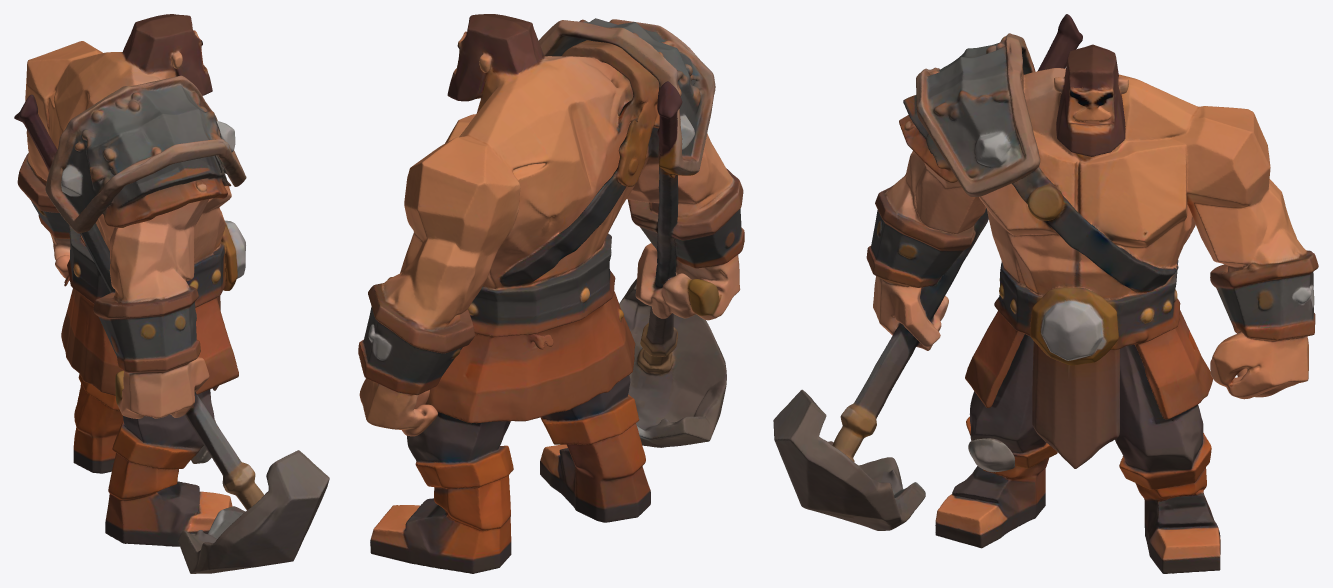
File: barbarian.glb
3 views of the same model, side by side, from view 1: azimuth 30°, elevation 25°; view 2: azimuth 150°, elevation 25°; view 3: azimuth 270°, elevation 25° (orthographic). The views are drawn at different scales.
Visible parts, largest first — view 1: tripo_node_f7891a3a-2718-4610-b6a1-b9b330dff9ce; view 2: tripo_node_f7891a3a-2718-4610-b6a1-b9b330dff9ce; view 3: tripo_node_f7891a3a-2718-4610-b6a1-b9b330dff9ce.
Part boxes in pixels (x1,y1,x2,y2): tripo_node_f7891a3a-2718-4610-b6a1-b9b330dff9ce: (14,14,329,573); tripo_node_f7891a3a-2718-4610-b6a1-b9b330dff9ce: (358,14,744,573); tripo_node_f7891a3a-2718-4610-b6a1-b9b330dff9ce: (773,14,1318,573).
Size of the model in its own units: 0.5016 by 0.9867 by 1.
Materials: 1 (1 with a texture image).
